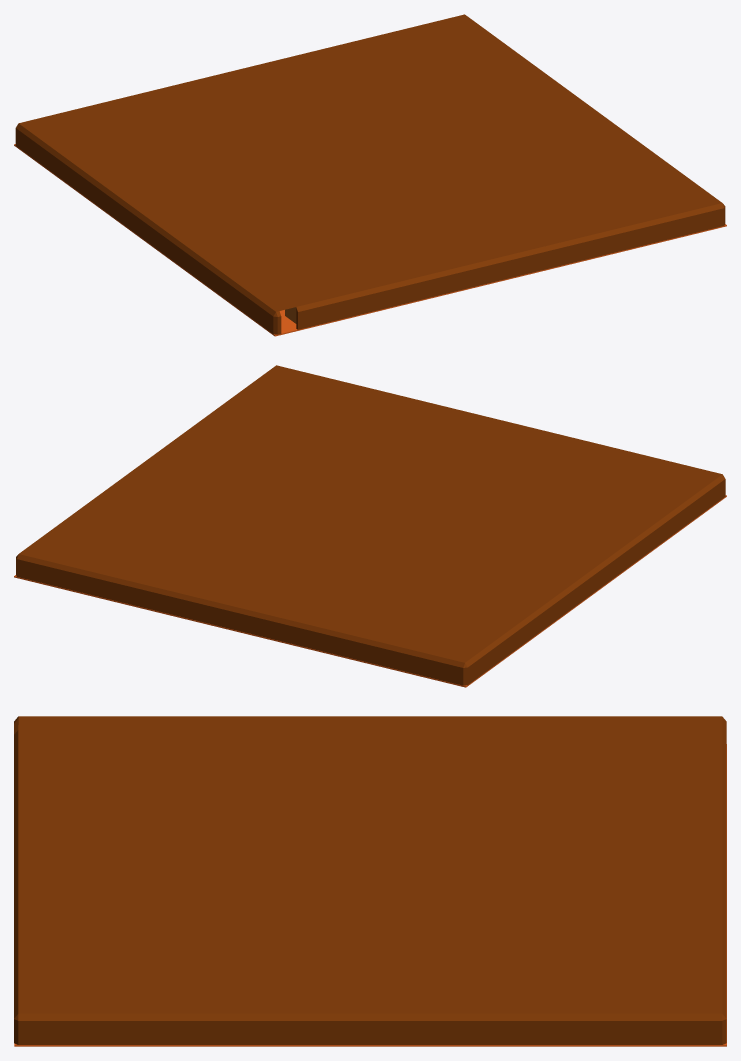
Rendered from level.fbx.
3 renders of one model, top to bottom at view 1: azimuth 30°, elevation 25°; view 2: azimuth 150°, elevation 25°; view 3: azimuth 270°, elevation 25°, orthographic. The views are drawn at different scales.
Visible parts, largest first — view 1: roof, outer wall, floor; view 2: roof, outer wall, floor; view 3: roof, outer wall, floor.
Part boxes in pixels (left/top/right/bottom): roof: left=19, top=14, right=721, bottom=311; outer wall: left=15, top=123, right=725, bottom=334; floor: left=14, top=144, right=726, bottom=336; roof: left=19, top=365, right=722, bottom=662; outer wall: left=16, top=474, right=725, bottom=685; floor: left=14, top=495, right=726, bottom=687; roof: left=18, top=716, right=722, bottom=1013; outer wall: left=14, top=716, right=726, bottom=1044; floor: left=14, top=744, right=726, bottom=1046.
Size of the model in its own units: 4001 by 193 by 4002.
